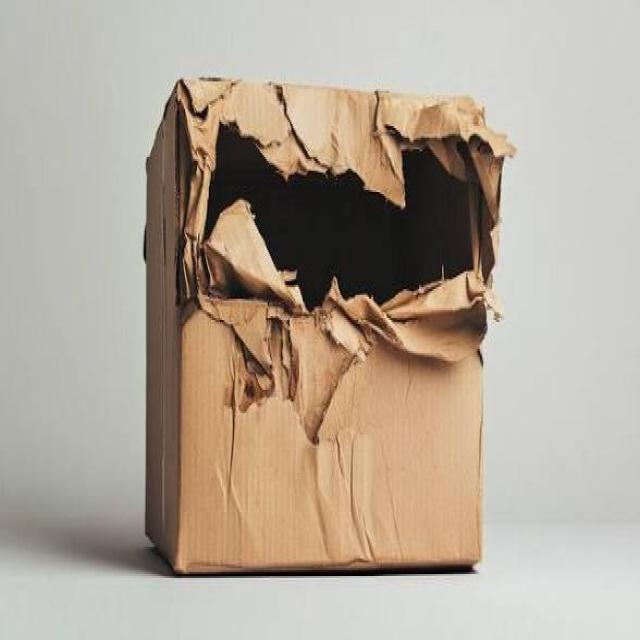package_damage: (172, 62, 510, 458)
